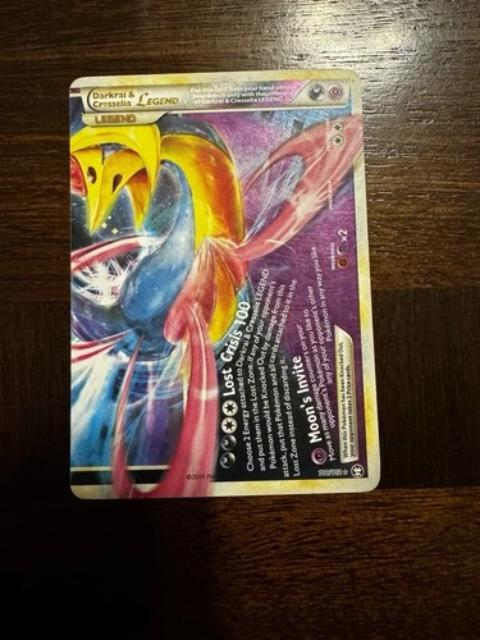Card: (64, 64, 386, 503)
Name: (85, 84, 185, 112)
